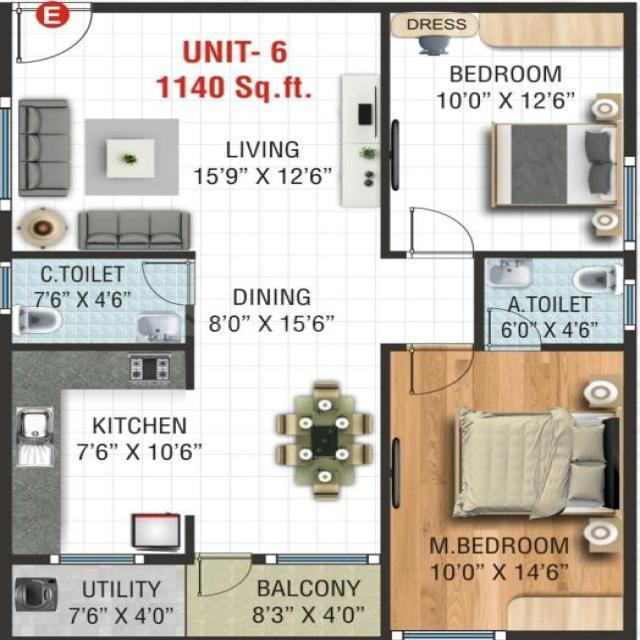Balcony-Sitout: (192, 555, 386, 640)
Bedroom: (380, 2, 636, 257)
Bedroom with Toilet: (378, 250, 637, 640)
Dining: (271, 376, 377, 507)
Enterance-Foyer: (0, 0, 386, 257), (0, 3, 92, 73)
Kitchen: (0, 342, 196, 562)
Toilet: (2, 254, 194, 345), (475, 253, 636, 346)
Utility: (4, 556, 189, 640)
